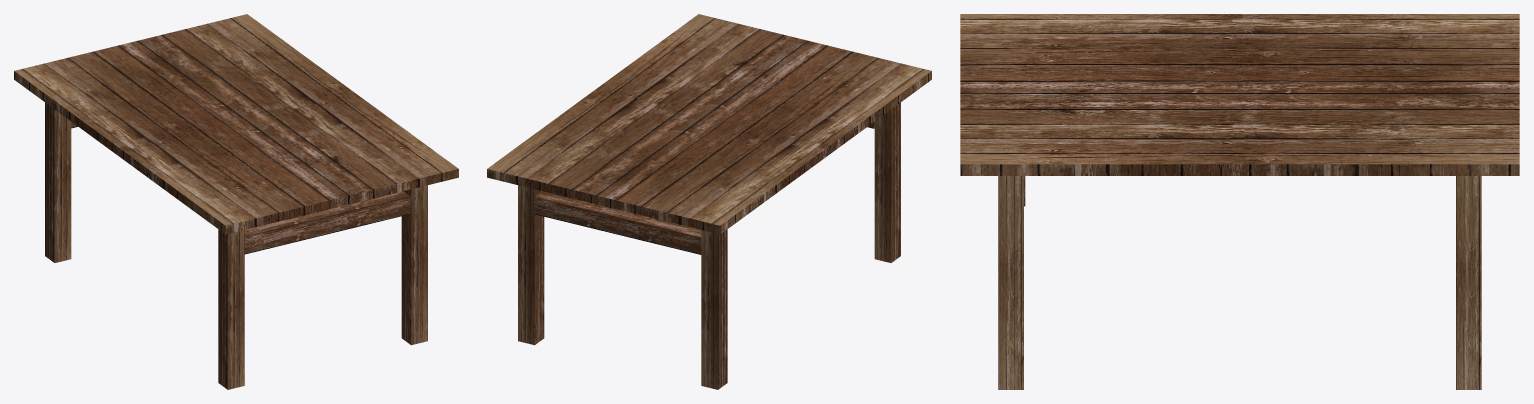
File: table.fbx
The picture shows the model from 3 angles, left to right: view 1: azimuth 30°, elevation 25°; view 2: azimuth 150°, elevation 25°; view 3: azimuth 270°, elevation 25°; orthographic projection. The views are drawn at different scales.
Visible parts, largest first — view 1: Platte, Bein, Stütze_2, Bein_3, Bein_2; view 2: Platte, Stütze, Bein_3, Bein, Bein_4; view 3: Platte, Bein_2, Bein_4.
Part boxes in pixels (<box>): Platte: <box>14,14,458,234</box>; Bein: <box>218,229,244,389</box>; Stütze_2: <box>244,191,410,254</box>; Bein_3: <box>45,102,71,262</box>; Bein_2: <box>401,185,427,345</box>; Platte: <box>487,14,931,234</box>; Stütze: <box>535,191,701,254</box>; Bein_3: <box>701,229,727,389</box>; Bein: <box>874,102,900,262</box>; Bein_4: <box>518,185,544,345</box>; Platte: <box>960,14,1519,175</box>; Bein_2: <box>998,176,1023,389</box>; Bein_4: <box>1456,176,1481,389</box>.
Bounding box in the file's own units: 140 × 103 × 220.
4 materials, 4 textured.
